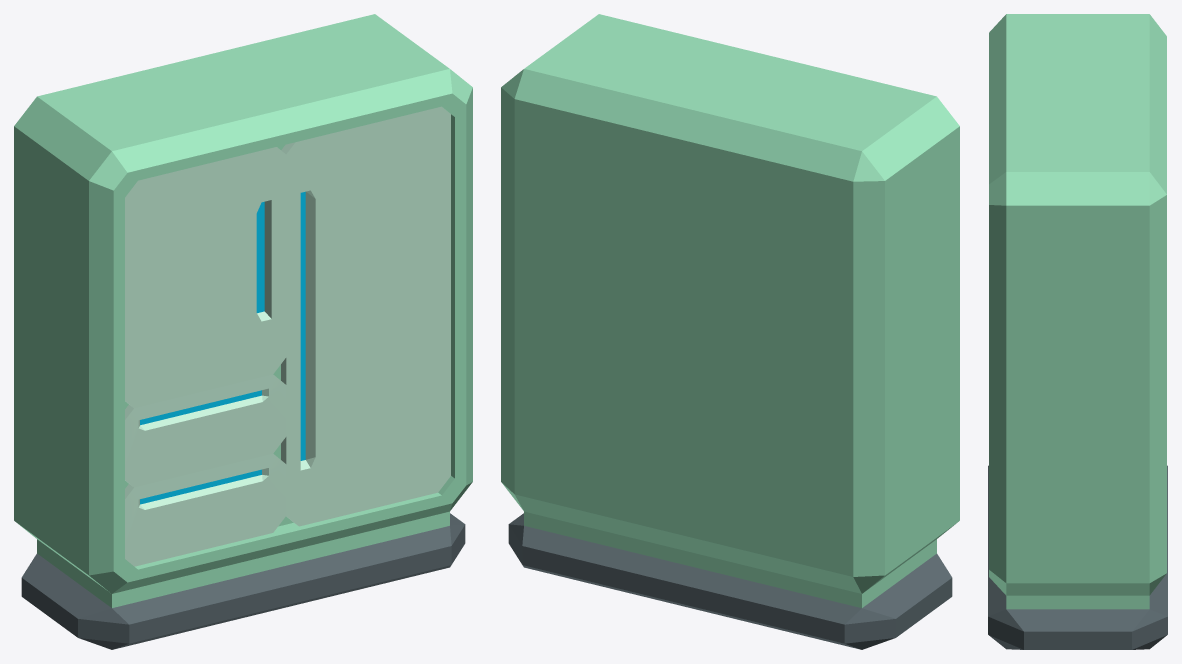
Rendered from Cabinet 01.fbx.
3 views of the same model, side by side, from view 1: azimuth 30°, elevation 25°; view 2: azimuth 150°, elevation 25°; view 3: azimuth 270°, elevation 25° (orthographic). The views are drawn at different scales.
Parts seen in each view (by area): view 1: Cabinet_01, Door_Right, Door_Left, Drawer_Top, Drawer_Bottom; view 2: Cabinet_01; view 3: Cabinet_01.
Part boxes in pixels (bbox=[...]): Cabinet_01: bbox=[14, 14, 472, 649]; Door_Right: bbox=[281, 106, 450, 526]; Door_Left: bbox=[125, 147, 286, 408]; Drawer_Top: bbox=[125, 374, 286, 487]; Drawer_Bottom: bbox=[125, 453, 286, 566]; Cabinet_01: bbox=[501, 14, 959, 649]; Cabinet_01: bbox=[988, 14, 1167, 649].
Bounding box in the file's own units: 180 × 222 × 75.7.
